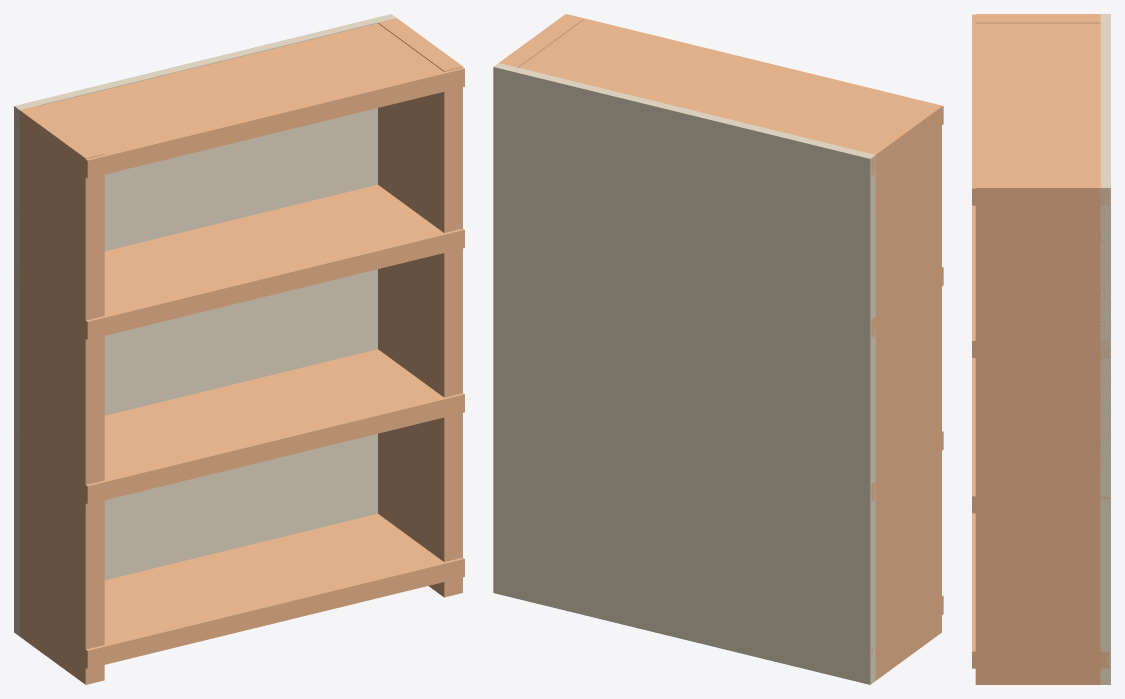
3 views of the same model, side by side, from view 1: azimuth 30°, elevation 25°; view 2: azimuth 150°, elevation 25°; view 3: azimuth 270°, elevation 25° (orthographic). The views are drawn at different scales.
Visible parts, largest first — view 1: Back, Side, Side.001, Shelf.003, Shelf.002, Shelf.001, Shelf; view 2: Back, Side, Shelf.003, Shelf.002, Shelf.001, Side.001, Shelf; view 3: Side.001, Shelf.003, Back, Shelf.002, Shelf.001, Shelf, Side.
Boxes of the visible parts, x1,y1,x2,y2 form: Back: [14, 14, 396, 636]; Side: [17, 105, 104, 684]; Side.001: [378, 18, 462, 597]; Shelf.003: [15, 23, 464, 178]; Shelf.002: [15, 184, 464, 339]; Shelf.001: [15, 349, 464, 504]; Shelf: [19, 513, 464, 668]; Back: [493, 63, 875, 684]; Side: [857, 102, 941, 680]; Shelf.003: [518, 14, 943, 176]; Shelf.002: [871, 266, 943, 337]; Shelf.001: [871, 431, 943, 502]; Side.001: [499, 14, 583, 67]; Shelf: [871, 595, 943, 663]; Side.001: [975, 179, 1105, 684]; Shelf.003: [972, 14, 1109, 205]; Back: [1100, 14, 1110, 684]; Shelf.002: [972, 205, 1109, 357]; Shelf.001: [972, 358, 1108, 513]; Shelf: [972, 513, 1109, 668]; Side: [975, 14, 1100, 23].
Size of the model in its own units: 120 by 160 by 40.5.
